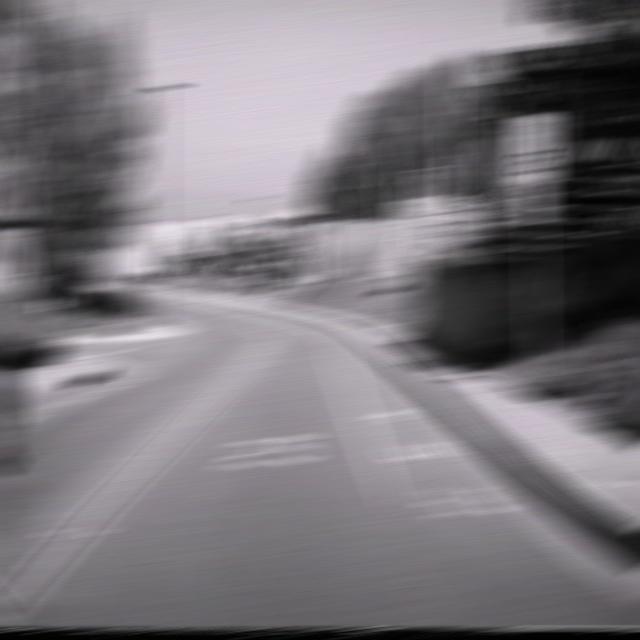speedLimit25: (513, 113, 555, 182)
